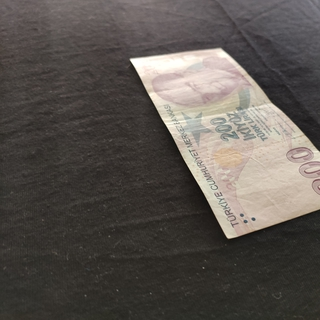200TLFront: (129, 47, 320, 240)
